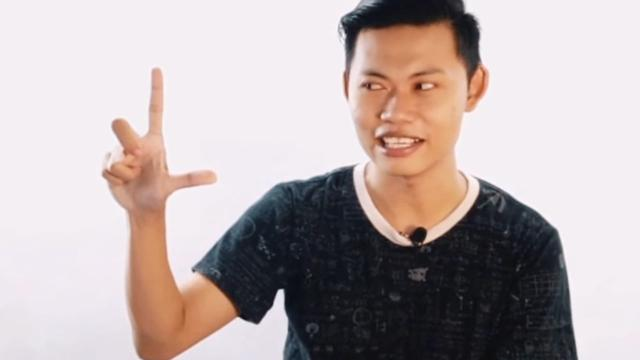L: (96, 65, 220, 207)
